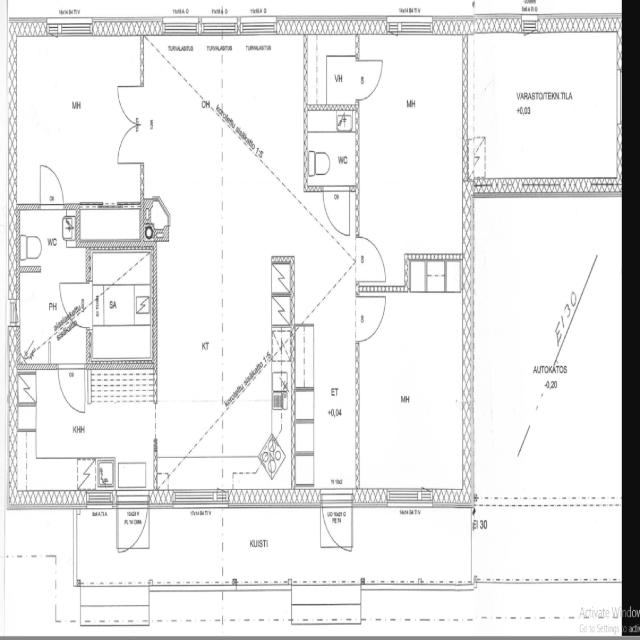door: (115, 78, 142, 168), (116, 485, 151, 554), (319, 488, 354, 553), (354, 231, 390, 287), (320, 184, 354, 238), (354, 291, 388, 344), (56, 362, 88, 417), (59, 287, 93, 337), (36, 159, 68, 210), (356, 54, 385, 103)
window: (168, 486, 224, 513), (50, 16, 96, 42), (384, 485, 428, 511), (200, 13, 240, 39), (160, 15, 200, 41), (392, 16, 434, 40), (240, 14, 280, 38), (83, 490, 114, 512), (614, 67, 624, 127)
zone: (142, 23, 356, 499), (358, 35, 462, 288), (356, 284, 466, 498), (15, 34, 142, 208), (14, 363, 152, 500), (89, 248, 154, 367), (15, 270, 91, 364), (16, 206, 84, 276), (304, 108, 359, 188), (306, 35, 360, 109), (77, 207, 144, 247)
